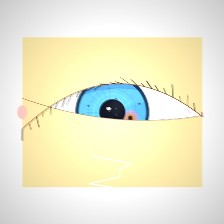foreign_body_visible: (116, 107, 144, 129)
